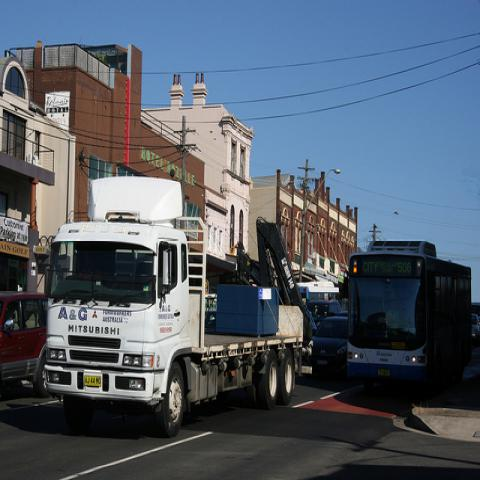bus: (348, 239, 472, 395), (297, 278, 340, 302)
car: (0, 290, 50, 398), (311, 314, 348, 376), (308, 300, 348, 326), (472, 313, 479, 339)
truck: (44, 177, 317, 438)
